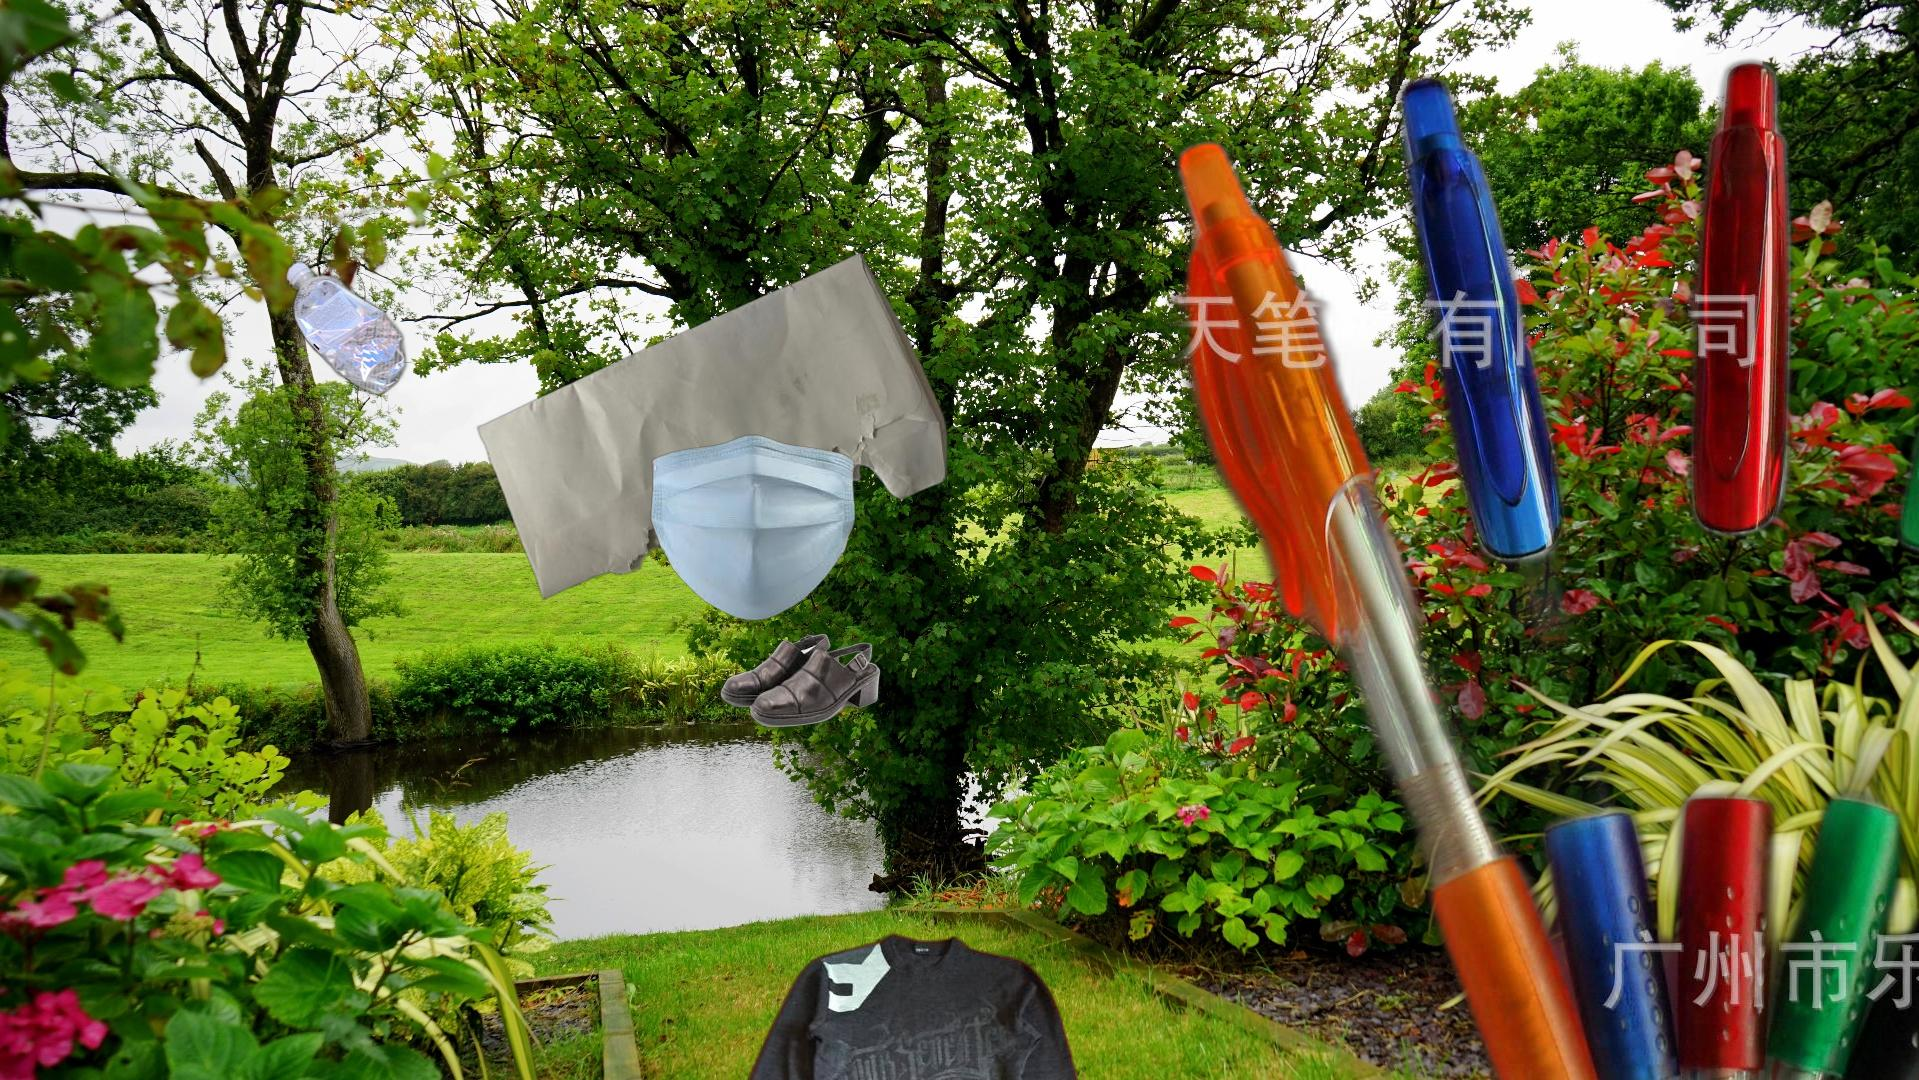clothes: (720, 931, 1106, 1080)
paper: (474, 251, 953, 603)
penholder: (1120, 50, 1919, 1080)
plastic-bottles: (281, 256, 411, 402)
shoes: (718, 628, 883, 731)
trash: (648, 433, 865, 622)
